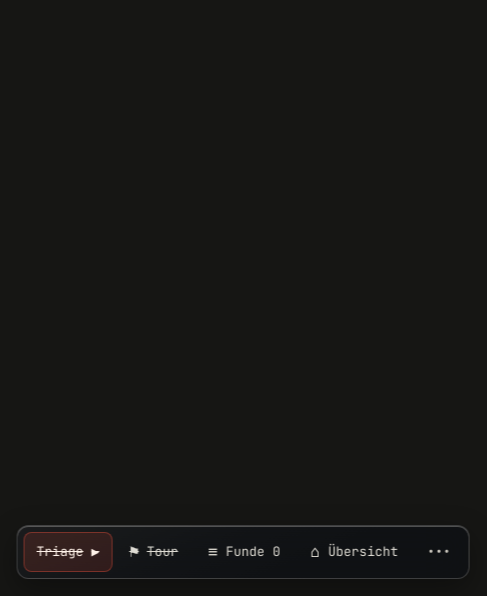
EIN Ort für alle Zugangsoptionen › sits as one named group, and every option appears exactly once
Click the button with id "city-more-button". click: (439, 552)
box: left=415, top=532, right=462, bottom=572
(page scrolled)
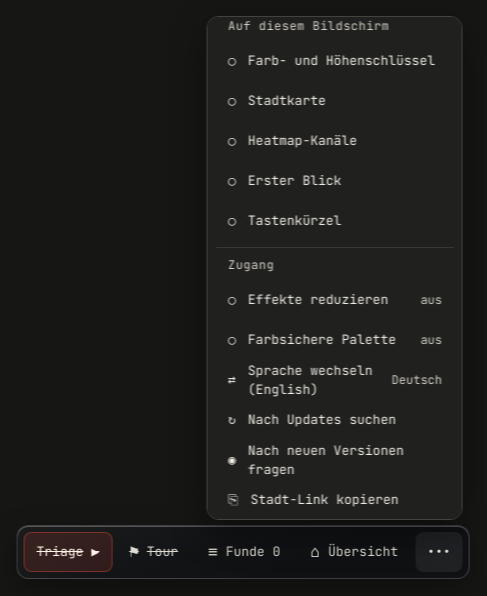
Check: the element with id "access-group" is shown, box left=216, top=247, right=454, bottom=400
Check: the text "Zugang" is shown, box left=228, top=257, right=274, bottom=273
